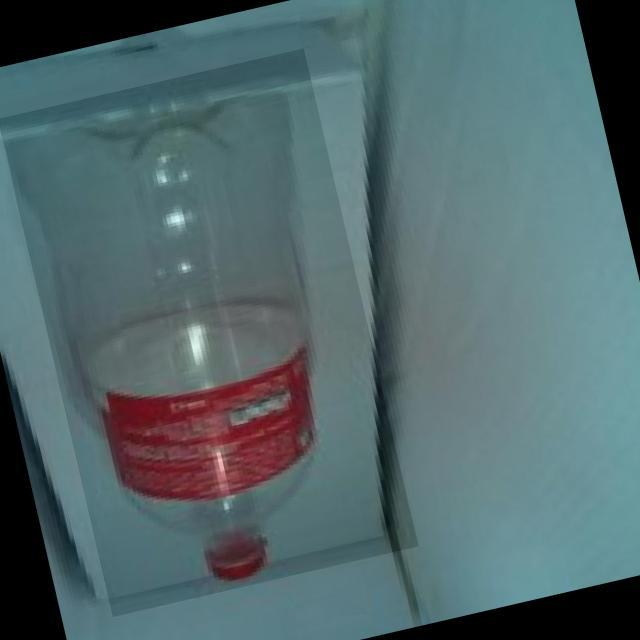good: (0, 45, 417, 615)
